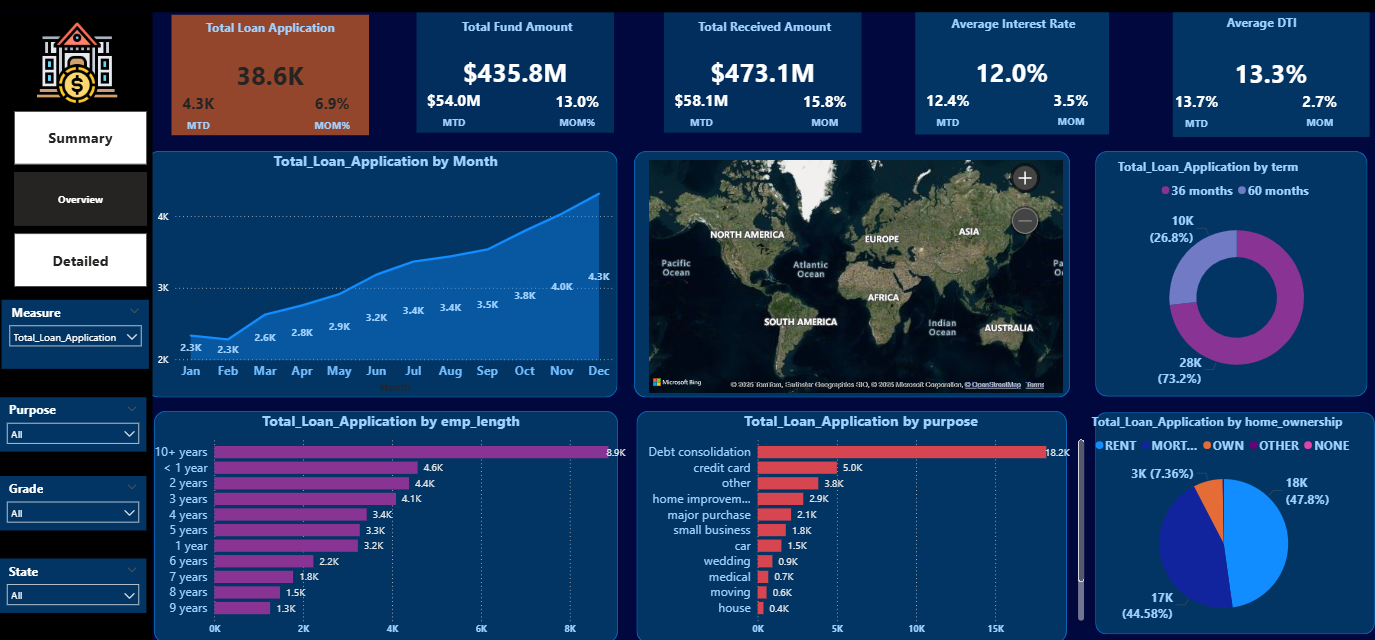

The dashboard page shown, as its layout file describes it:
{"tool":"powerbi","page":{"name":"Overview","canvas":[1800,900],"ordinal":1},"visuals":[{"type":"group","id":"g1","title":"Group 1","box":[224.8,76.8,257.7,159],"z":0},{"type":"card","fields":{"Values":["Bank_loan.Total_Loan_Application"]},"box":[224.8,76.8,258.7,157.9],"z":0,"group":"g1"},{"type":"group","id":"g2","title":"Group 2","box":[546.6,73.7,259.8,158],"z":1000},{"type":"card","fields":{"Values":["Bank_loan.Total_fund_Amount"]},"box":[546.6,73.7,258.7,157.9],"z":1000,"group":"g2"},{"type":"textbox","box":[224.8,76.8,258.7,33.6],"z":1000,"group":"g1"},{"type":"group","id":"g3","title":"Group 5","box":[1519.4,69.7,272.9,166.5],"z":2000},{"type":"card","fields":{"Values":["Bank_loan.Total_Recieved_Amount"]},"box":[870.3,73.7,258.7,157.9],"z":2000,"group":"g4"},{"type":"card","fields":{"Values":["Bank_loan.MTD_Loan_Application"]},"box":[224.8,170.9,70.6,63.8],"z":2000,"group":"g1"},{"type":"card","fields":{"Values":["Bank_loan.Average_DTI"]},"box":[1535.4,69.7,257.4,166.5],"z":3000,"group":"g3"},{"type":"group","id":"g4","title":"Group 3","box":[870.3,73.7,259.8,158],"z":3000},{"type":"card","fields":{"Values":["Bank_loan.MOM%"]},"box":[386.1,170.9,97.4,63.8],"z":3000,"group":"g1"},{"type":"group","id":"g5","title":"Group 4","box":[1194.1,72.6,261.3,161.2],"z":4000},{"type":"card","fields":{"Values":["Bank_loan.Average_int_Rate"]},"box":[1198.5,72.6,253.3,161.2],"z":4000,"group":"g5"},{"type":"shape","box":[1434.2,596.1,365.8,290.3],"z":5000},{"type":"textbox","box":[1524.5,70.1,255.7,34.1],"z":6000,"group":"g3"},{"type":"textbox","box":[549.3,75.3,257.1,34.2],"z":6000,"group":"g2"},{"type":"shape","box":[833.5,595.9,563,303.4],"z":6000},{"type":"textbox","box":[873,75.3,257.1,34.2],"z":7000,"group":"g4"},{"type":"card","fields":{"Values":["Bank_loan.MTD_Int_Rate"]},"box":[1194.1,166.7,95.3,64.7],"z":7000,"group":"g5"},{"type":"card","fields":{"Values":["Bank_loan.MTD_DTI"]},"box":[1519.4,167.2,95.3,64.7],"z":7000,"group":"g3"},{"type":"shape","box":[202.9,595.9,606.9,303.4],"z":7000},{"type":"shape","box":[0,0,1800,73.5],"z":8000},{"type":"card","fields":{"Values":["Bank_loan.Total_funded_MTD"]},"box":[547.5,167,95.3,64.7],"z":8000,"group":"g2"},{"type":"card","fields":{"Values":["Bank_loan.MOM_int_rate%"]},"box":[1354.5,167.5,97.4,63.8],"z":8000,"group":"g5"},{"type":"card","fields":{"Values":["Bank_loan.MOM_DTE_%"]},"box":[1679.8,168,97.4,63.8],"z":8000,"group":"g3"},{"type":"card","fields":{"Values":["Bank_loan.MTD_Loan_Recieved"]},"box":[871.2,167,95.3,64.7],"z":9000,"group":"g4"},{"type":"shape","box":[193.2,255,616.2,322.6],"z":9000},{"type":"shape","box":[0,73.4,200.9,826.8],"z":10000},{"type":"card","fields":{"Values":["Bank_loan.Funded_MOM%"]},"box":[707.9,167.8,97.4,63.8],"z":10000,"group":"g2"},{"type":"textbox","box":[537,0,707,61.8],"z":11000},{"type":"card","fields":{"Values":["Bank_loan.MOM_Recieved_amount%"]},"box":[1031.6,167.8,97.4,63.8],"z":11000,"group":"g4"},{"type":"textbox","box":[1198.5,72.6,256.9,33.7],"z":11001,"group":"g5"},{"type":"slicer","fields":{"Values":["Bank_loan.purpose"]},"box":[0,577.6,193.2,71.5],"z":12000},{"type":"slicer","fields":{"Values":["Bank_loan.grade"]},"box":[0,680,193.2,71.5],"z":13000},{"type":"slicer","fields":{"Values":["Bank_loan.address_state"]},"box":[0,788.2,193.2,71.5],"z":14000},{"type":"stackedAreaChart","fields":{"Y":["Bank_loan.Total_Loan_Application"],"Category":["Dim_Date.Month_Name"]},"box":[202.8,255,606.6,322.6],"z":15000},{"type":"slicer","fields":{"Values":["Measure.Measure"]},"box":[3.9,450.1,193.2,90.8],"z":16000},{"type":"shape","box":[831.5,255.1,570.5,322.4],"z":17000},{"type":"filledMap","fields":{"Category":["Bank_loan.address_state"]},"box":[845.8,261.3,551.6,315.5],"z":18000},{"type":"shape","box":[1434.2,255.5,356.1,321.3],"z":19000},{"type":"donutChart","fields":{"Y":["Bank_loan.Total_Loan_Application"],"Category":["Bank_loan.term"]},"box":[1459.4,263.2,321.3,313.5],"z":20000},{"type":"barChart","fields":{"Y":["Bank_loan.Total_Loan_Application"],"Category":["Bank_loan.emp_length"]},"box":[193.8,595.9,639.8,303.4],"z":21000},{"type":"barChart","fields":{"Y":["Bank_loan.Total_Loan_Application"],"Category":["Bank_loan.purpose"]},"box":[829.9,595.9,594.1,303.4],"z":22000},{"type":"pieChart","fields":{"Y":["Bank_loan.Total_Loan_Application"],"Category":["Bank_loan.home_ownership"]},"box":[1424.5,596.1,356.1,290.3],"z":23000},{"type":"pageNavigator","box":[19.4,203.2,174.2,232.3],"z":24000},{"type":"image","box":[9.8,76.9,184.8,125.9],"z":24001}]}

Visuals, with their boxes on the page's 1800x900 design canvas (x1, y1, x2, y2). These are canvas units, not pixel positions in the 1375x640 screenshot, which may show the page scaled, cropped or inside an application window:
"Group 1" group: 225 77 482 236
card - Bank_loan.Total_Loan_Application: 225 77 484 235
"Group 2" group: 547 74 806 232
card - Bank_loan.Total_fund_Amount: 547 74 805 232
textbox: 225 77 484 110
"Group 5" group: 1519 70 1792 236
card - Bank_loan.Total_Recieved_Amount: 870 74 1129 232
card - Bank_loan.MTD_Loan_Application: 225 171 295 235
card - Bank_loan.Average_DTI: 1535 70 1793 236
"Group 3" group: 870 74 1130 232
card - Bank_loan.MOM%: 386 171 484 235
"Group 4" group: 1194 73 1455 234
card - Bank_loan.Average_int_Rate: 1198 73 1452 234
shape: 1434 596 1800 886
textbox: 1524 70 1780 104
textbox: 549 75 806 110
shape: 834 596 1396 899
textbox: 873 75 1130 110
card - Bank_loan.MTD_Int_Rate: 1194 167 1289 231
card - Bank_loan.MTD_DTI: 1519 167 1615 232
shape: 203 596 810 899
shape: 0 0 1800 74
card - Bank_loan.Total_funded_MTD: 548 167 643 232
card - Bank_loan.MOM_int_rate%: 1354 168 1452 231
card - Bank_loan.MOM_DTE_%: 1680 168 1777 232
card - Bank_loan.MTD_Loan_Recieved: 871 167 966 232
shape: 193 255 809 578
shape: 0 73 201 900
card - Bank_loan.Funded_MOM%: 708 168 805 232
textbox: 537 0 1244 62
card - Bank_loan.MOM_Recieved_amount%: 1032 168 1129 232
textbox: 1198 73 1455 106
slicer - Bank_loan.purpose: 0 578 193 649
slicer - Bank_loan.grade: 0 680 193 752
slicer - Bank_loan.address_state: 0 788 193 860
stackedAreaChart - Bank_loan.Total_Loan_Application x Dim_Date.Month_Name: 203 255 809 578
slicer - Measure.Measure: 4 450 197 541
shape: 832 255 1402 578
filledMap - Bank_loan.address_state: 846 261 1397 577
shape: 1434 256 1790 577
donutChart - Bank_loan.Total_Loan_Application x Bank_loan.term: 1459 263 1781 577
barChart - Bank_loan.Total_Loan_Application x Bank_loan.emp_length: 194 596 834 899
barChart - Bank_loan.Total_Loan_Application x Bank_loan.purpose: 830 596 1424 899
pieChart - Bank_loan.Total_Loan_Application x Bank_loan.home_ownership: 1424 596 1781 886
pageNavigator: 19 203 194 436
image: 10 77 195 203
